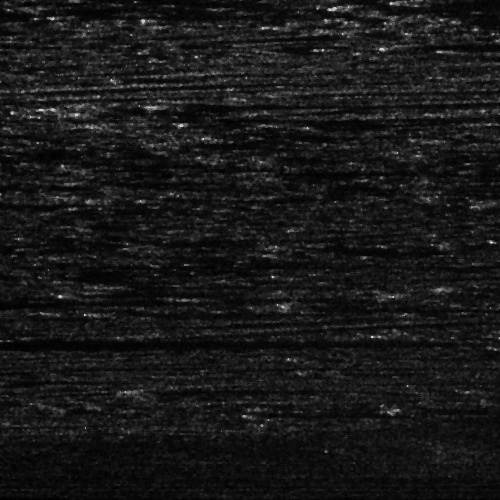object: (99, 384, 204, 393), (262, 302, 345, 309), (321, 1, 362, 12), (397, 40, 438, 45), (94, 282, 135, 287), (386, 0, 417, 6)
shadow: (0, 333, 369, 350), (152, 384, 365, 393), (341, 1, 500, 12), (0, 481, 88, 500), (304, 302, 500, 309), (115, 282, 325, 287), (418, 40, 500, 45)
